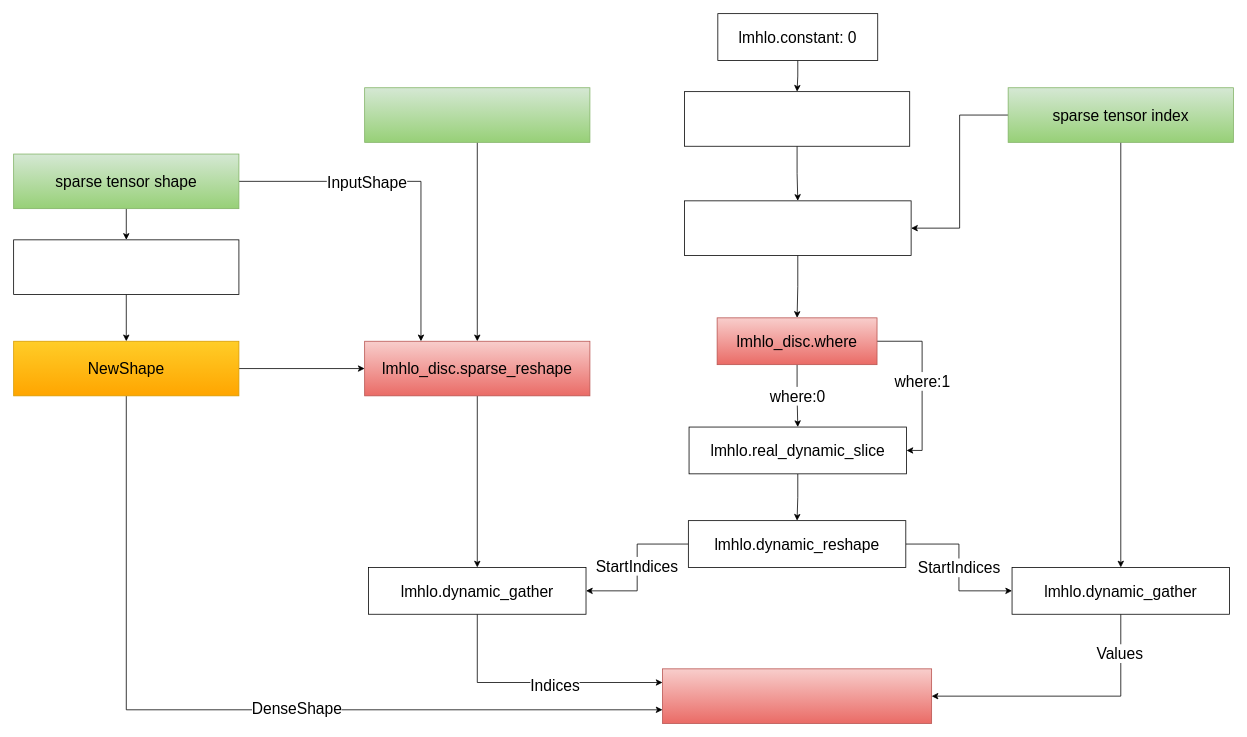
Some shapes in this 1247 by 737 pixel diagram are drawn without their labels. Each missing label, with the box of its shape:
lmhlo.compare : GE: (684, 200, 911, 255)
lmhlo.dynamic_broadcast: (684, 91, 910, 146)
lmhlo_disc.sparse_fill_empty_rows: (662, 668, 932, 723)
some other shape calculation: (13, 239, 239, 294)
sparse tensor value: (364, 87, 590, 142)
